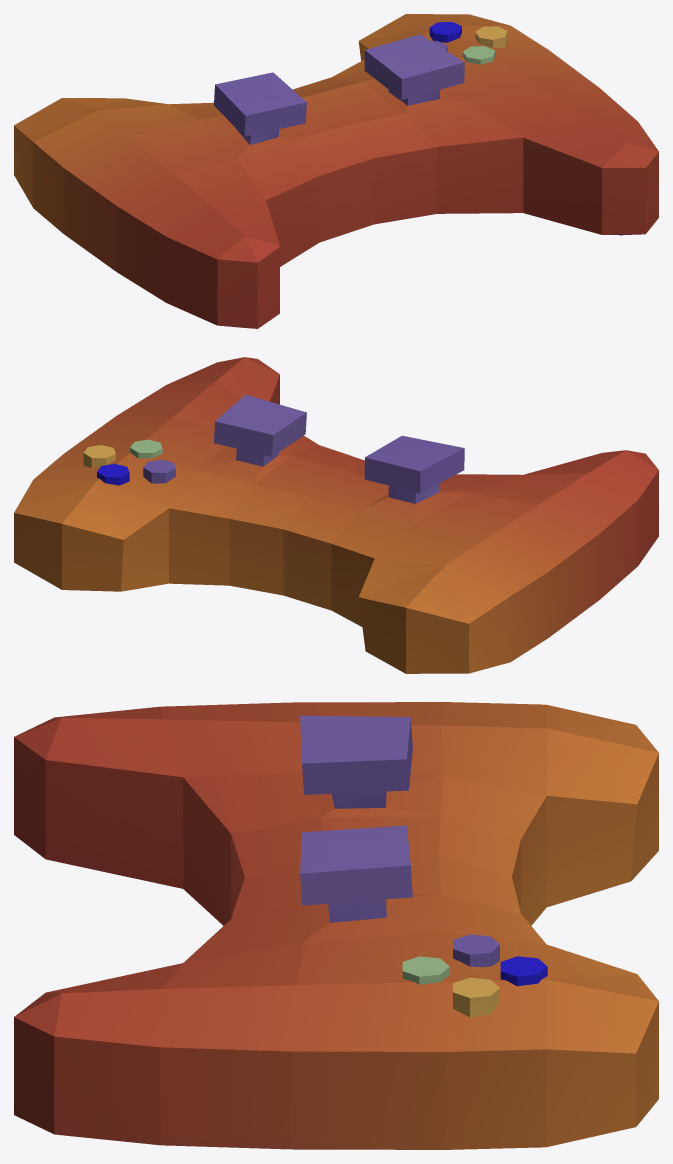
Rendered from sp_gamepad_desktop_a.fbx.
The picture shows the model from 3 angles, top to bottom: view 1: azimuth 30°, elevation 25°; view 2: azimuth 150°, elevation 25°; view 3: azimuth 270°, elevation 25°; orthographic projection. The views are drawn at different scales.
Visible parts, largest first — view 1: sp_gamepad_desktop_a; view 2: sp_gamepad_desktop_a; view 3: sp_gamepad_desktop_a.
Part boxes in pixels (x1=…): sp_gamepad_desktop_a: x1=14, y1=14, x2=658, y2=328; sp_gamepad_desktop_a: x1=14, y1=357, x2=658, y2=673; sp_gamepad_desktop_a: x1=14, y1=702, x2=658, y2=1149.
Size of the model in its own units: 22.2 by 6.13 by 17.29.
